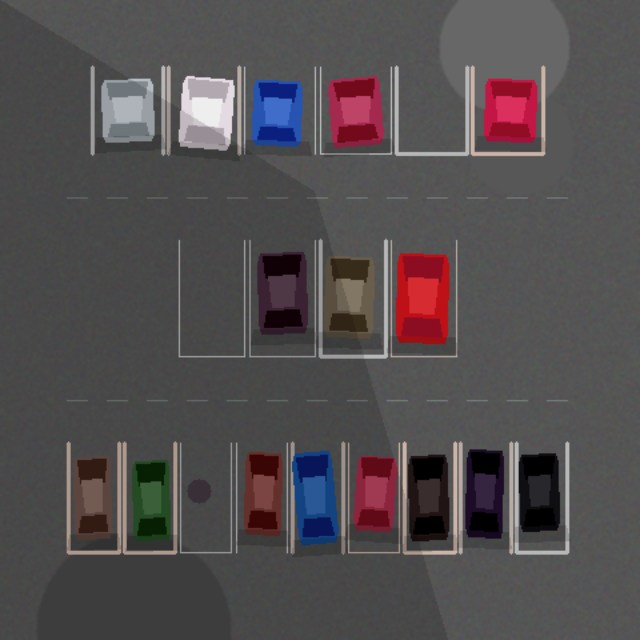space-empty: (179, 240, 244, 356), (396, 67, 467, 153), (180, 443, 231, 552)
space-occupied: (249, 240, 315, 356), (320, 240, 385, 356), (391, 240, 456, 356), (92, 67, 163, 153), (168, 67, 239, 153), (244, 67, 315, 153), (320, 67, 391, 153), (472, 67, 543, 153), (68, 443, 119, 552), (124, 443, 175, 552), (236, 443, 287, 552), (292, 443, 343, 552), (348, 443, 399, 552), (404, 443, 455, 552), (460, 443, 511, 552), (516, 443, 567, 552)
